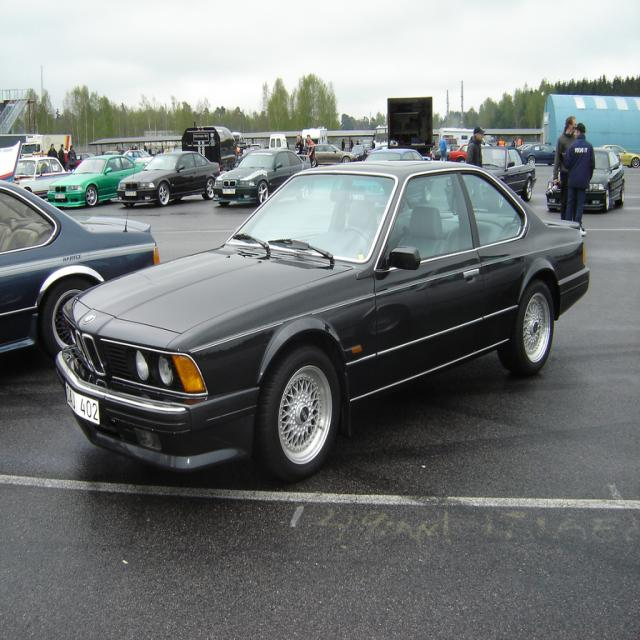car: (52, 152, 585, 480)
